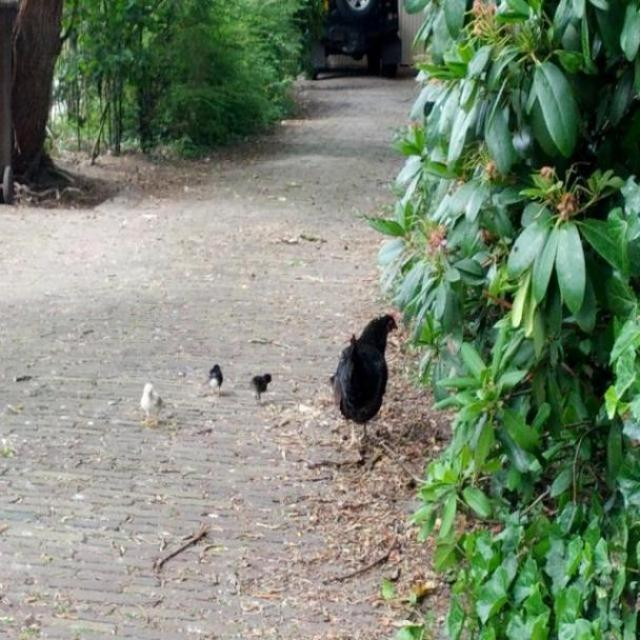Chicken: (328, 315, 399, 444)
